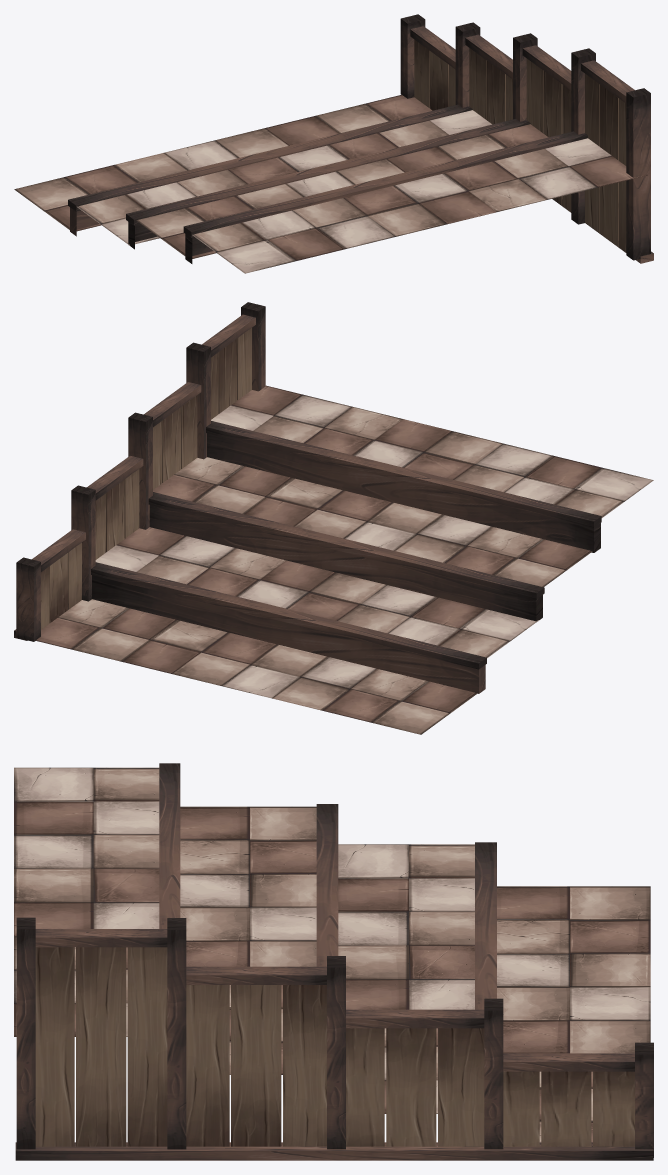
File: Straight3_wall_half.fbx
3 renders of one model, top to bottom at view 1: azimuth 30°, elevation 25°; view 2: azimuth 150°, elevation 25°; view 3: azimuth 270°, elevation 25°, orthographic. The views are drawn at different scales.
Parts seen in each view (by area): view 1: Straight3_wall_half; view 2: Straight3_wall_half; view 3: Straight3_wall_half.
Part boxes in pixels (x1,y1,x2,y2): Straight3_wall_half: (14,14,653,273); Straight3_wall_half: (14,302,653,734); Straight3_wall_half: (14,763,653,1160).
Size of the model in its own units: 0.614 by 0.24 by 0.6059.
